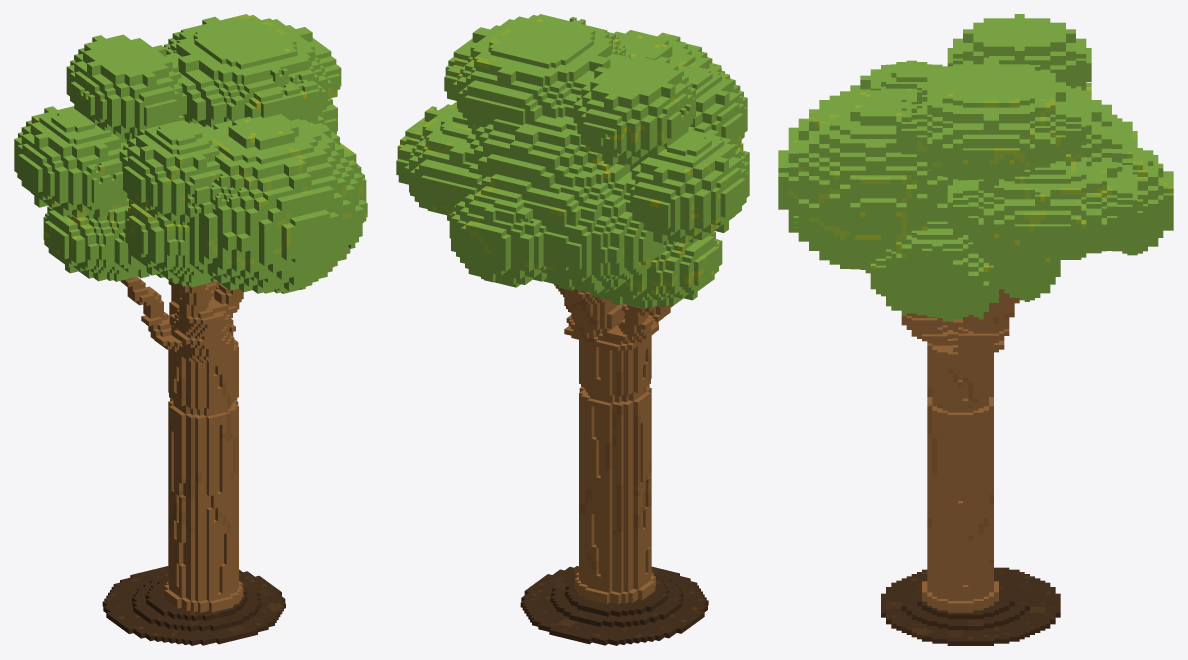
The model's file is 1_3 pitomb.obj.
3 views of the same model, side by side, from view 1: azimuth 30°, elevation 25°; view 2: azimuth 150°, elevation 25°; view 3: azimuth 270°, elevation 25° (orthographic). The views are drawn at different scales.
Bounding box in the file's own units: 6.9 × 11.9 × 7.7.
1 material, 1 textured.
